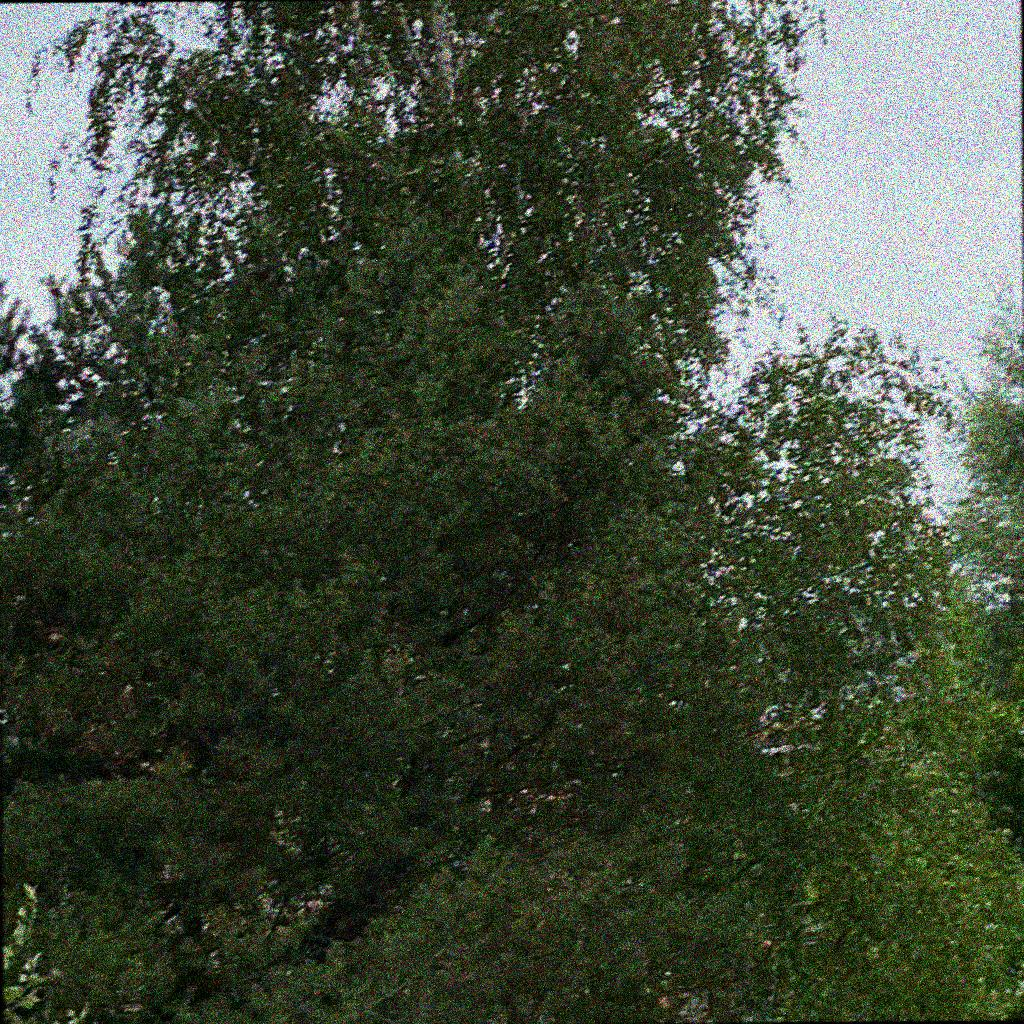tree: (1, 1, 1023, 1023), (691, 309, 1023, 1022), (941, 277, 1024, 1020)
